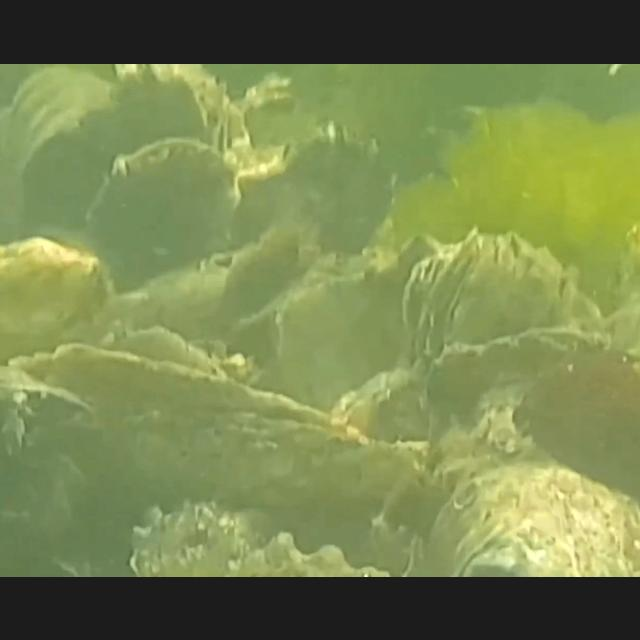Oyster-Closed: (9, 338, 363, 498), (333, 322, 622, 451), (429, 444, 640, 576), (402, 223, 582, 363), (91, 134, 243, 290), (127, 490, 396, 576), (273, 251, 413, 399), (273, 119, 395, 261), (0, 233, 114, 361), (0, 357, 92, 443)
